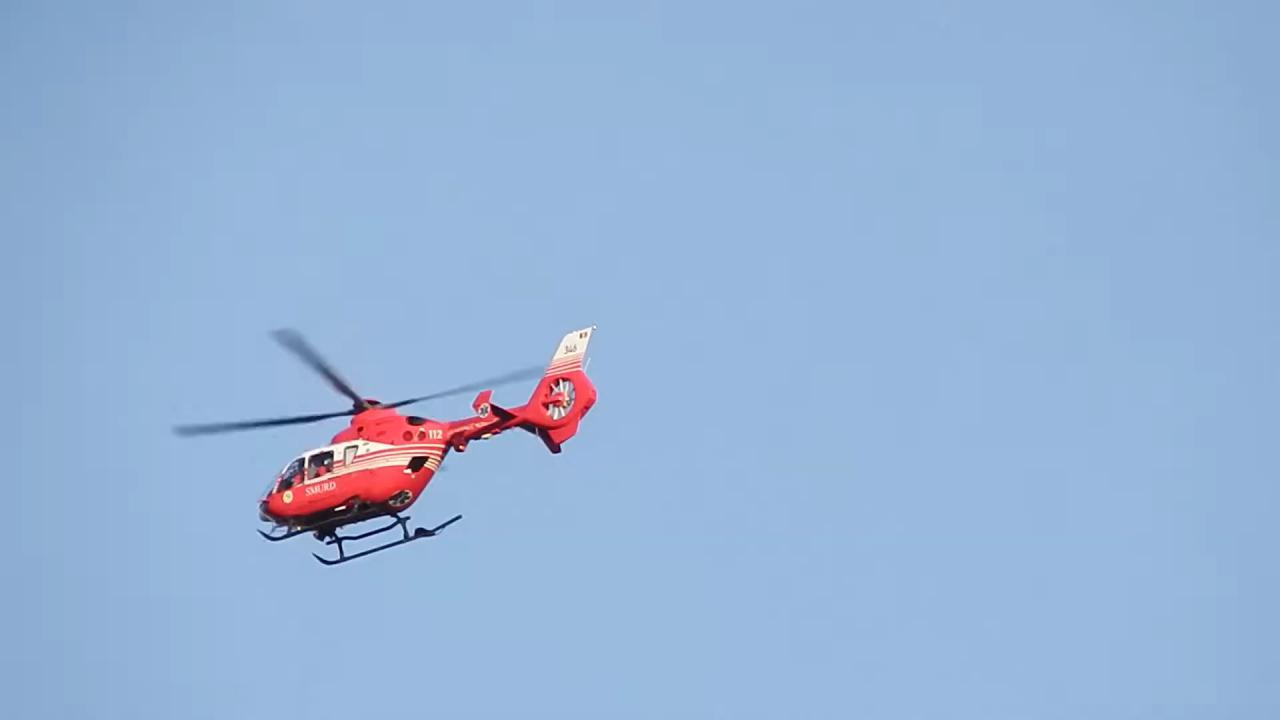Helicopter: (139, 298, 636, 606)
